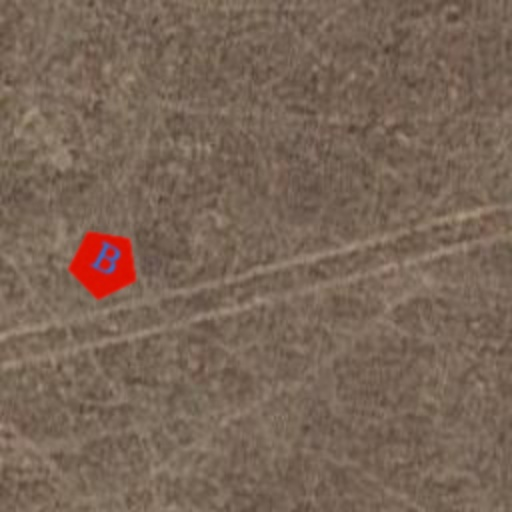pentagon: (54, 214, 154, 314)
